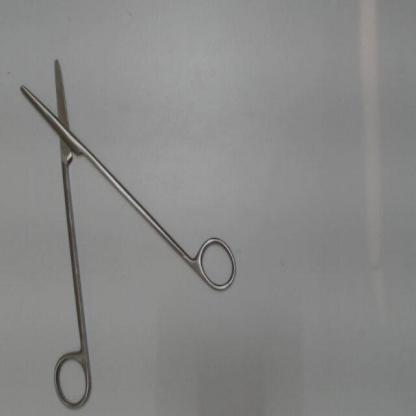9 Metzenbaum Scissors: (18, 54, 242, 414)
